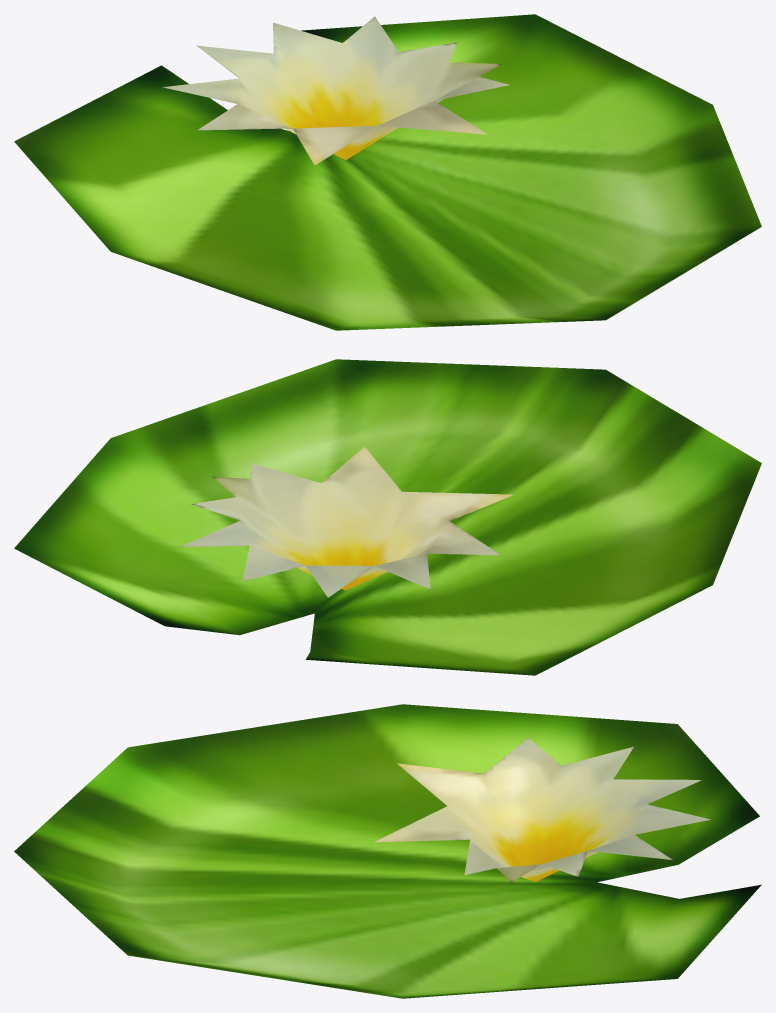
Rendered from Water Lily1.fbx.
3 views of the same model, one above another, from view 1: azimuth 30°, elevation 25°; view 2: azimuth 150°, elevation 25°; view 3: azimuth 270°, elevation 25° (orthographic).
Parts seen in each view (by area): view 1: Water_Lily1; view 2: Water_Lily1; view 3: Water_Lily1.
Part boxes in pixels (box(x1,y1,x2,y2)): Water_Lily1: box(14, 14, 761, 330); Water_Lily1: box(14, 359, 761, 675); Water_Lily1: box(14, 704, 761, 998).
Size of the model in its own units: 15.05 by 1.67 by 16.16.
